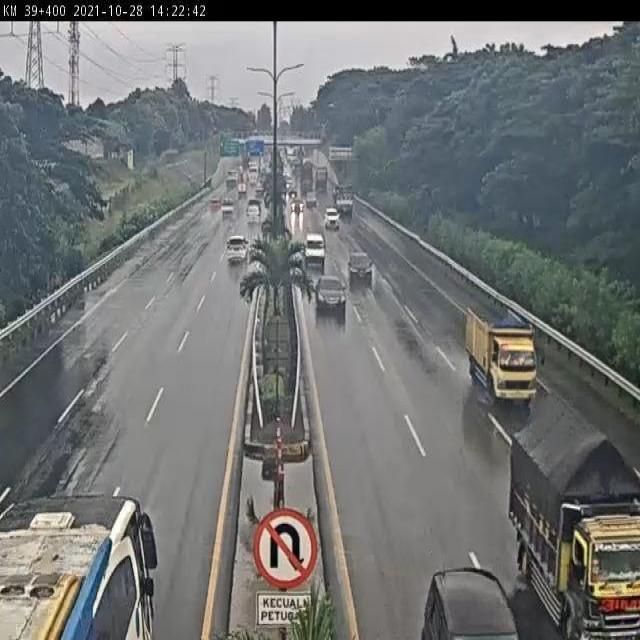truck-s-: (466, 304, 546, 407)
